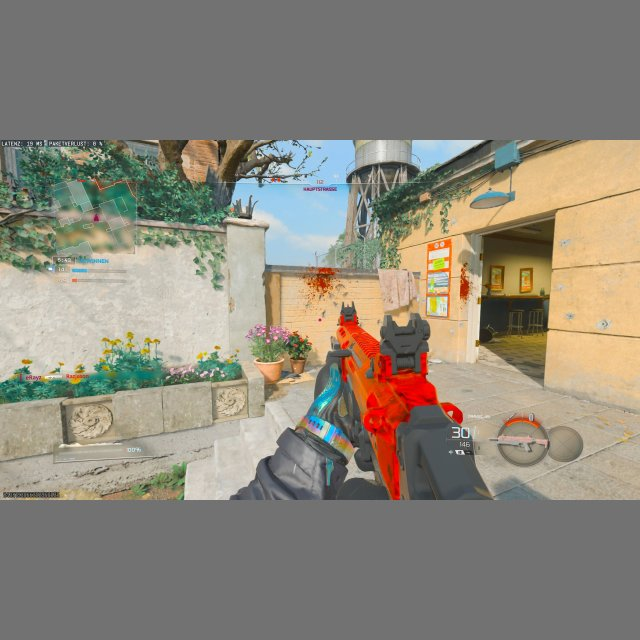player: (485, 324, 496, 343)
